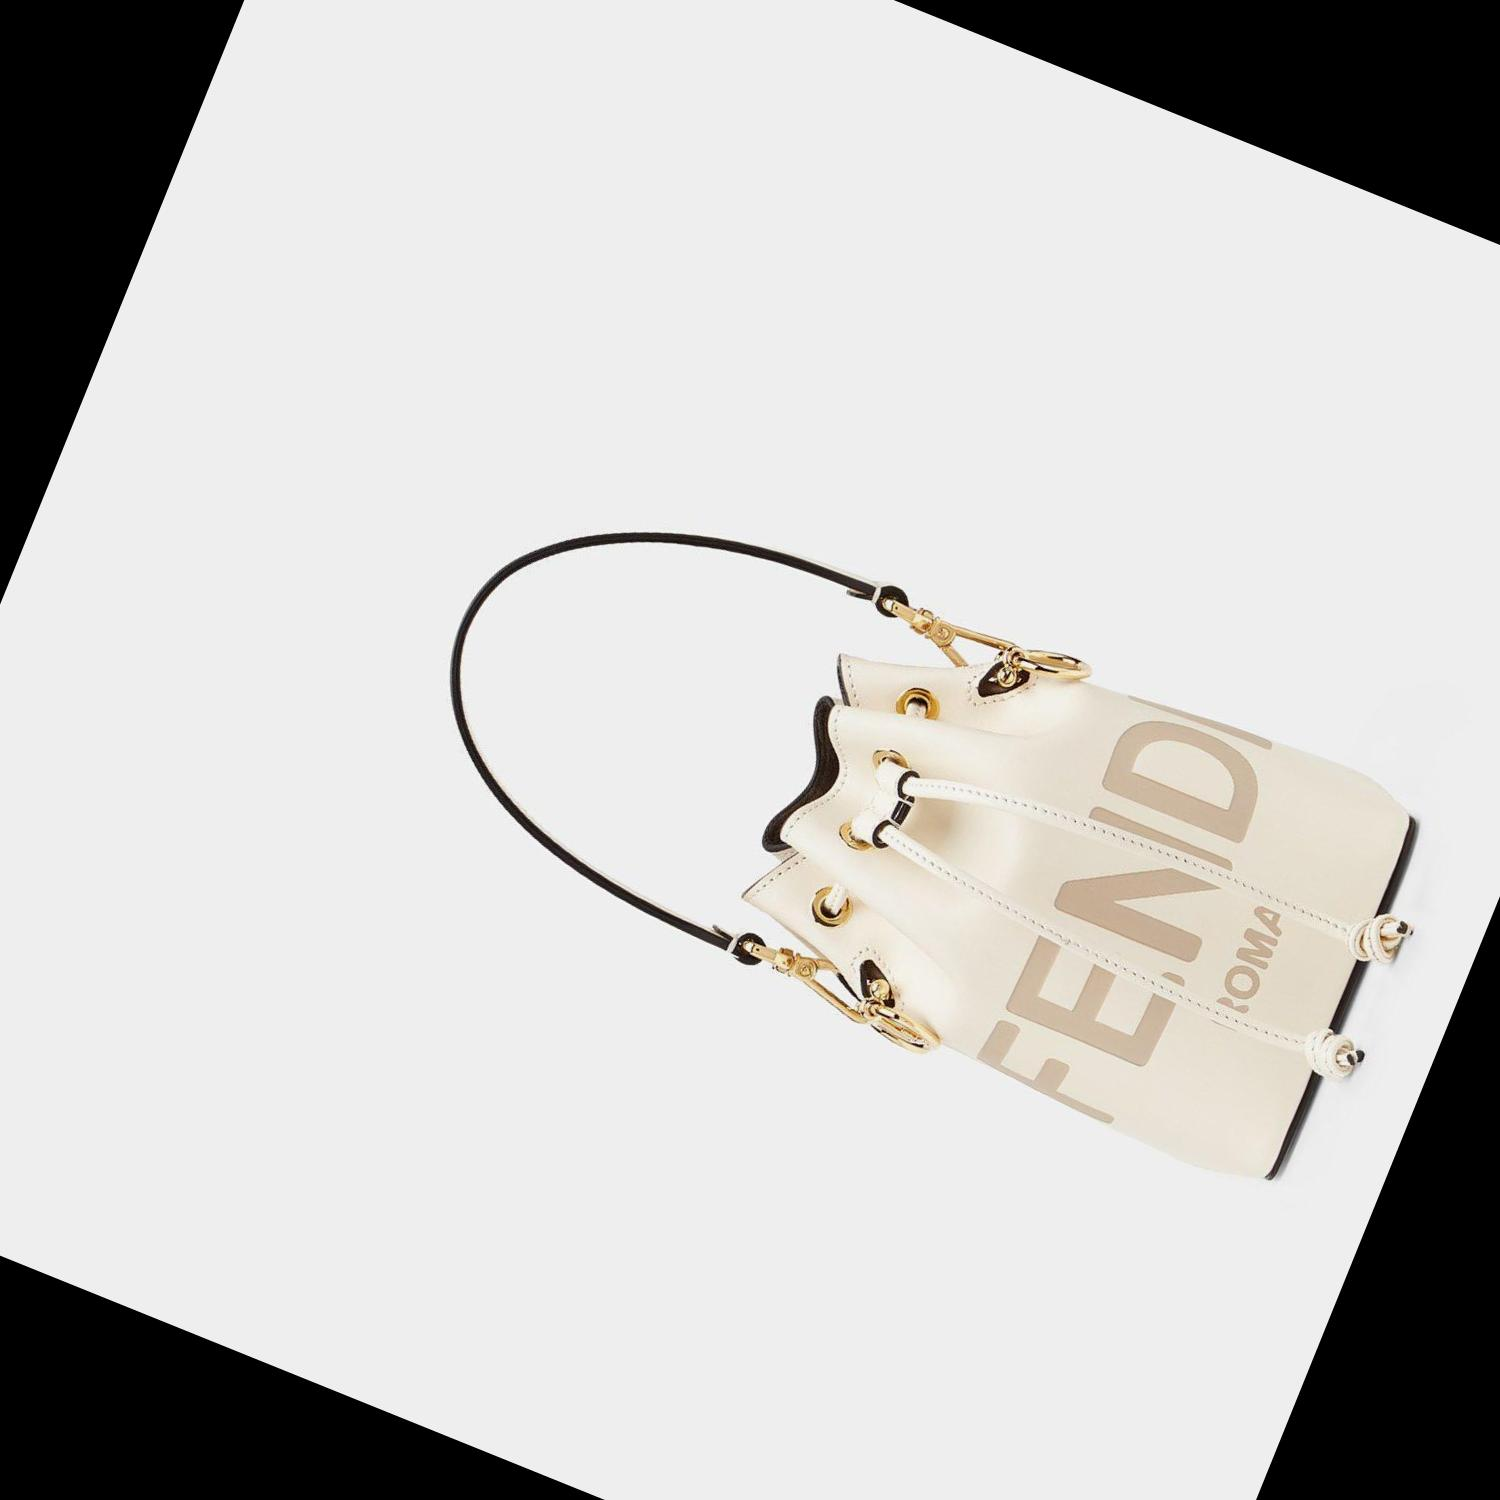FENDI: (970, 681, 1283, 1132)
